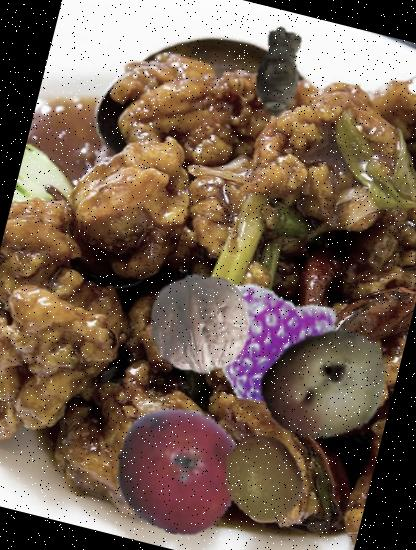Ginger: (222, 16, 335, 129)
Lemon: (206, 422, 320, 534)
Papaya: (245, 306, 403, 465)
Pomegranate: (102, 395, 255, 548)
Raspberry: (196, 270, 348, 422)
Walnut: (138, 262, 264, 387)
